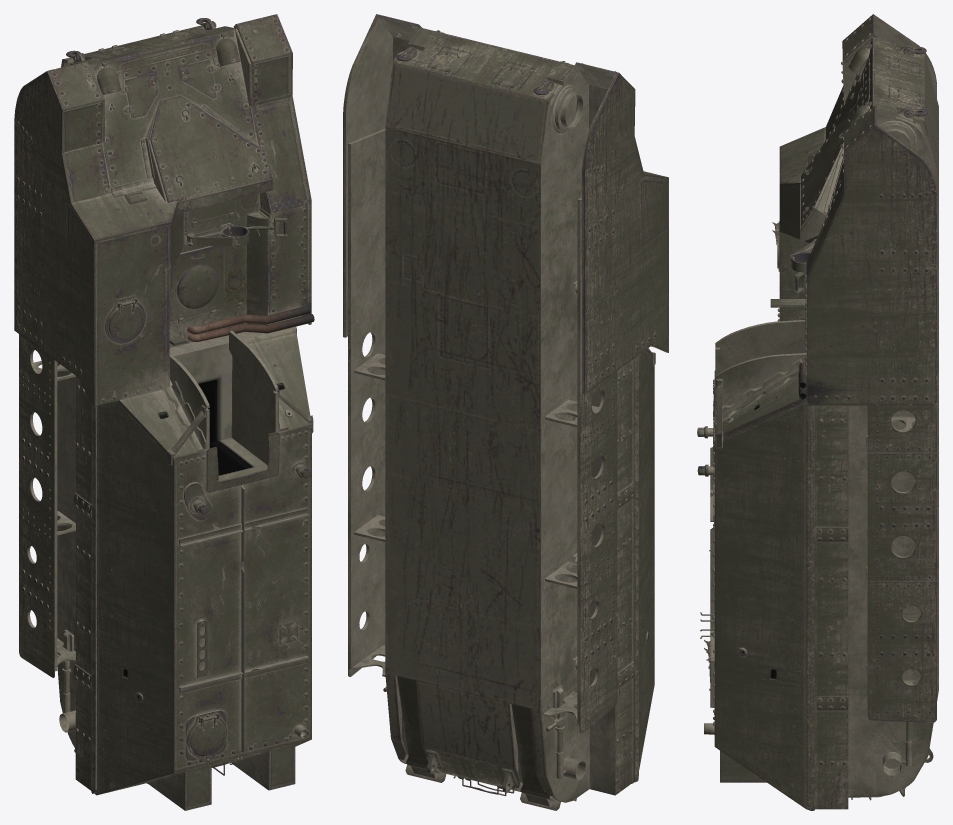
File: Hull.glb
3 renders of one model, left to right at view 1: azimuth 30°, elevation 25°; view 2: azimuth 150°, elevation 25°; view 3: azimuth 270°, elevation 25°, orthographic. The views are drawn at different scales.
Visible parts, largest first — view 1: set_0_group_0, set_0_group_1; view 2: set_0_group_1, set_0_group_0; view 3: set_0_group_0, set_0_group_1.
Boxes of the visible parts, <box> form: set_0_group_0: <box>14,14,314,810</box>; set_0_group_1: <box>16,19,307,767</box>; set_0_group_1: <box>346,18,656,802</box>; set_0_group_0: <box>343,14,668,810</box>; set_0_group_0: <box>697,14,938,810</box>; set_0_group_1: <box>713,17,938,797</box>.
Bounding box in the file's own units: 3.42 × 10.18 × 3.11.
2 materials, 2 textured.
